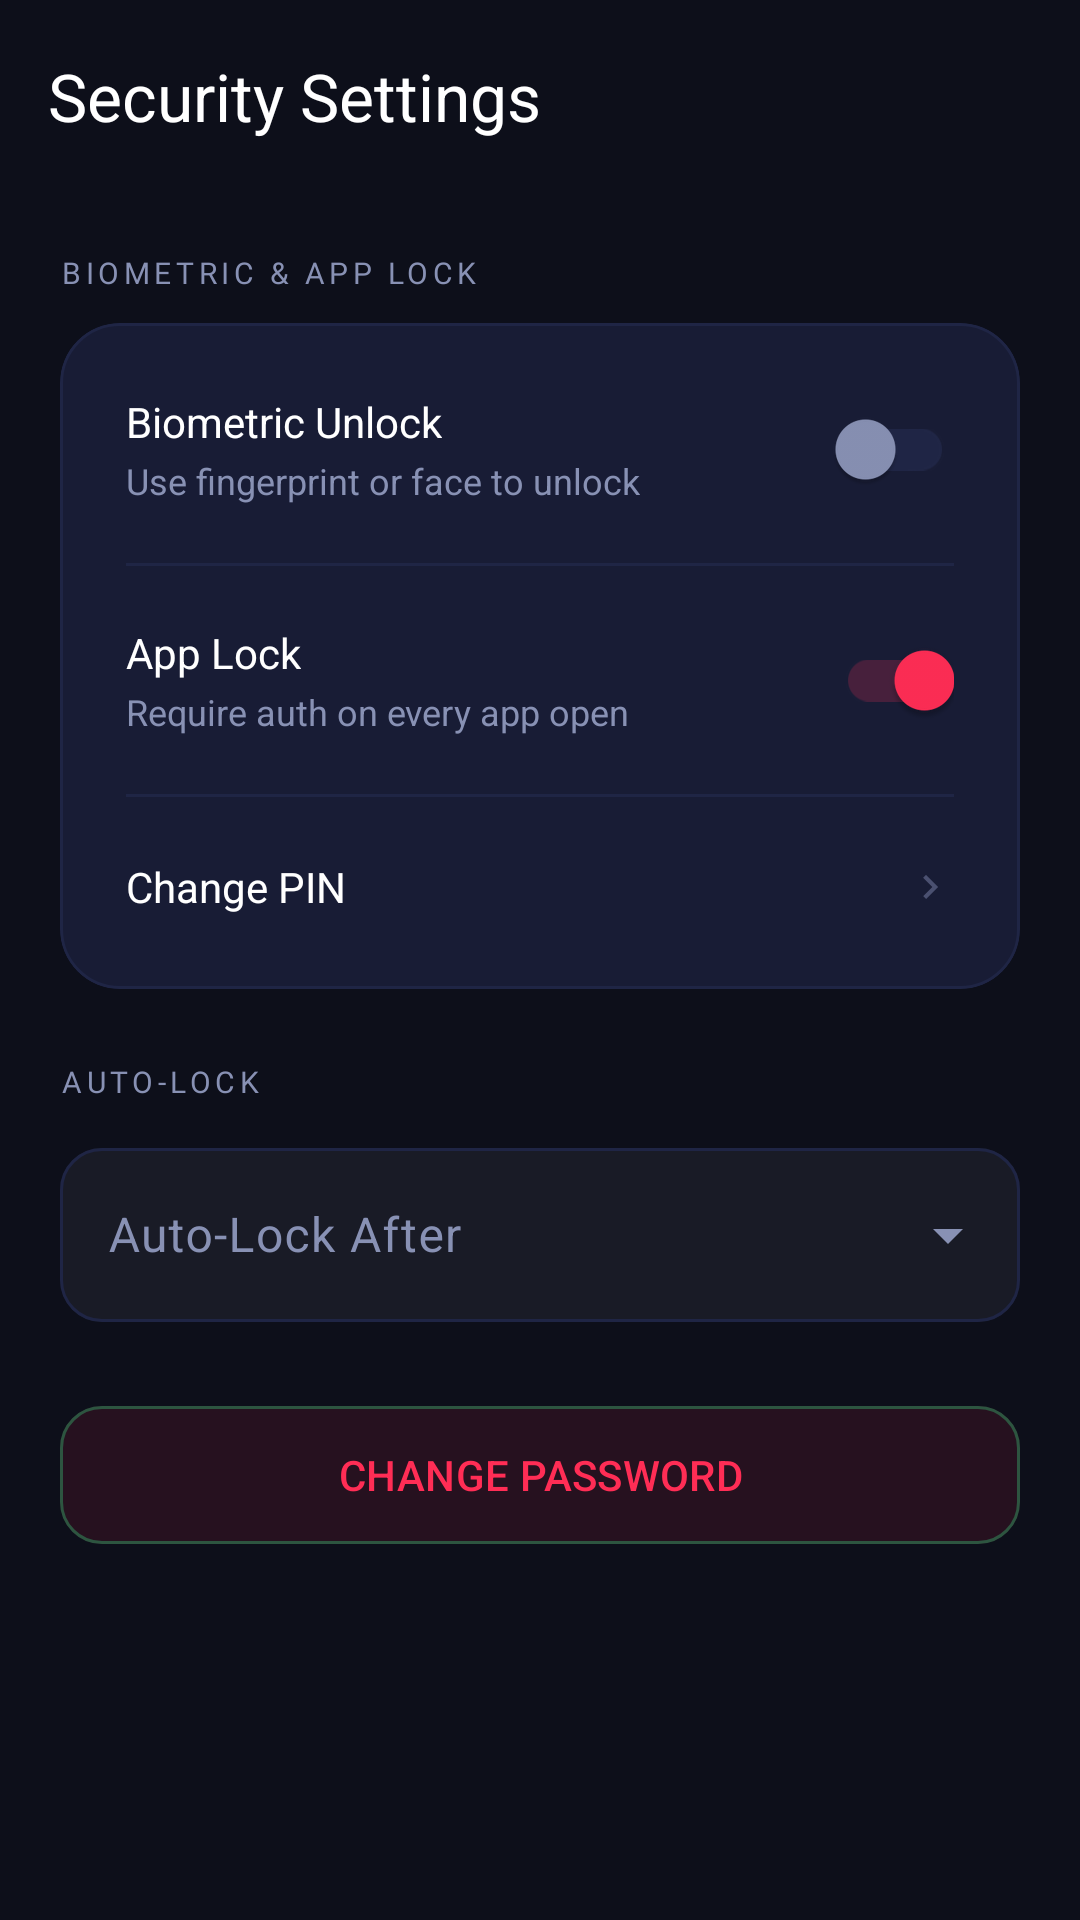

Named icons in this screenshot (1080 x 1920) and their bounding boxes, (x1, y1, x2, y2):
chevron right: (923, 875, 938, 899)
